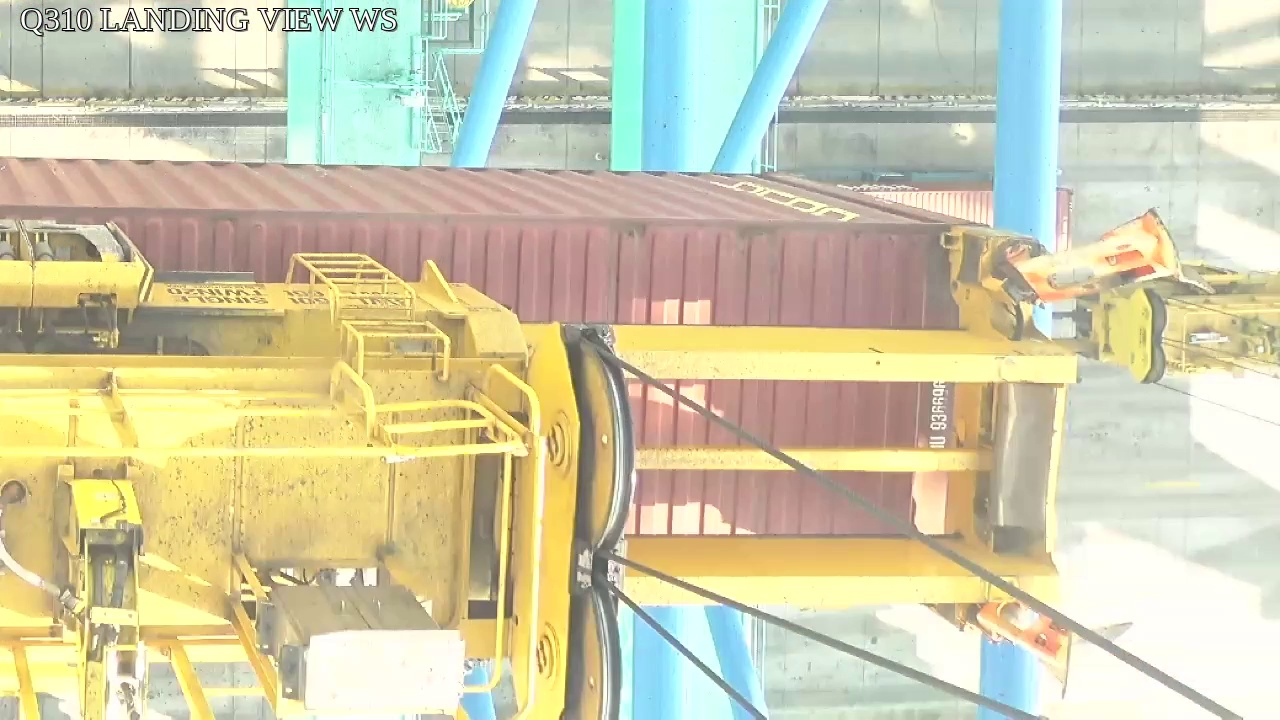right: (529, 322, 632, 720)
